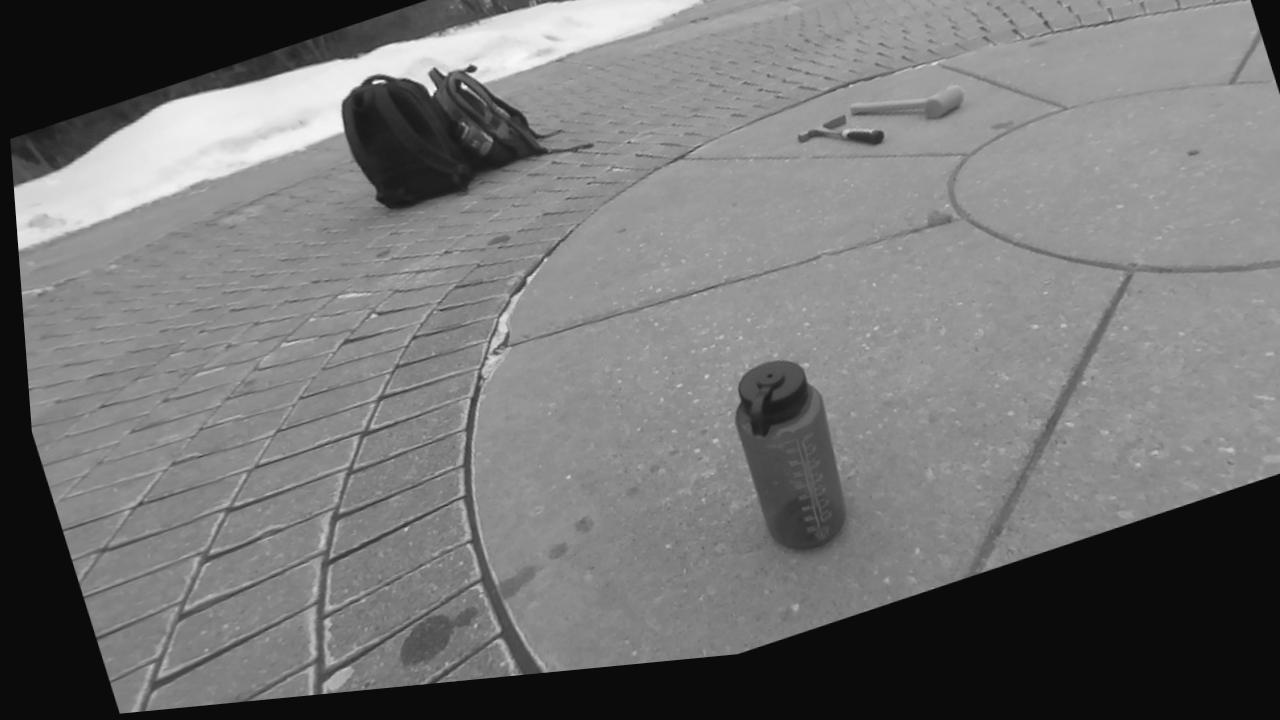bottle: (734, 360, 845, 549)
mallet: (849, 84, 963, 117)
pick: (797, 115, 884, 144)
